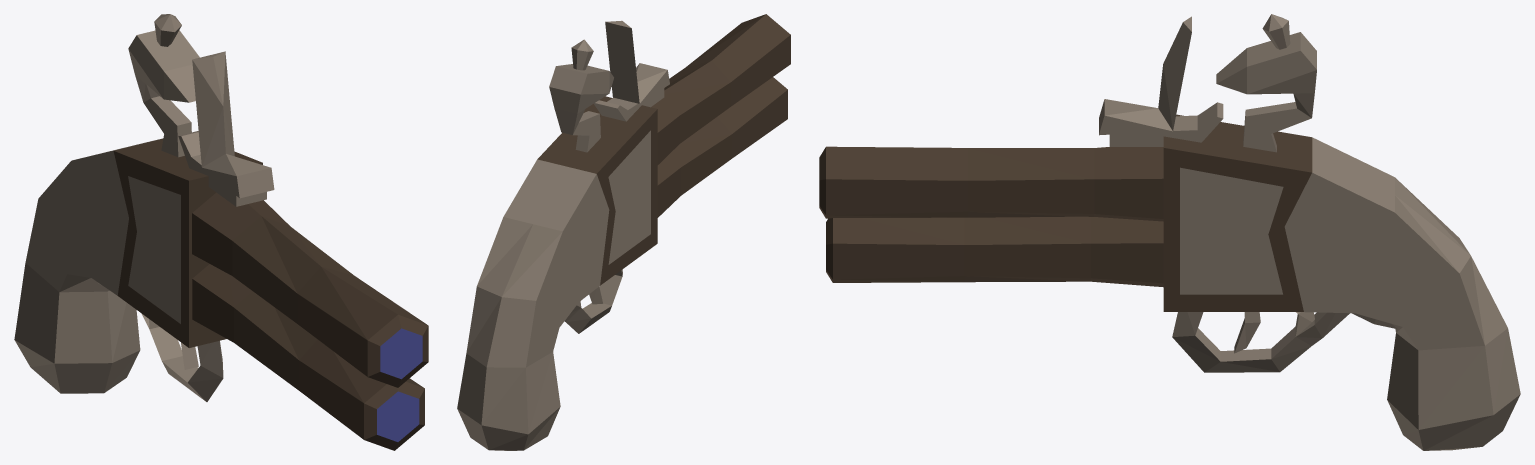
File: SM_Wep_Pistol_DoubleBarrel_01.glb
3 renders of one model, left to right at view 1: azimuth 30°, elevation 25°; view 2: azimuth 150°, elevation 25°; view 3: azimuth 270°, elevation 25°, orthographic. The views are drawn at different scales.
Parts seen in each view (by area): view 1: SM_Wep_Pistol_DoubleBarrel_01_00; view 2: SM_Wep_Pistol_DoubleBarrel_01_00; view 3: SM_Wep_Pistol_DoubleBarrel_01_00.
Boxes of the visible parts, x1,y1,x2,y2 form: SM_Wep_Pistol_DoubleBarrel_01_00: [14, 14, 428, 450]; SM_Wep_Pistol_DoubleBarrel_01_00: [457, 14, 790, 450]; SM_Wep_Pistol_DoubleBarrel_01_00: [819, 14, 1520, 450].
Size of the model in its own units: 0.0498 by 0.2397 by 0.3497.
Materials: 1 (1 with a texture image).
